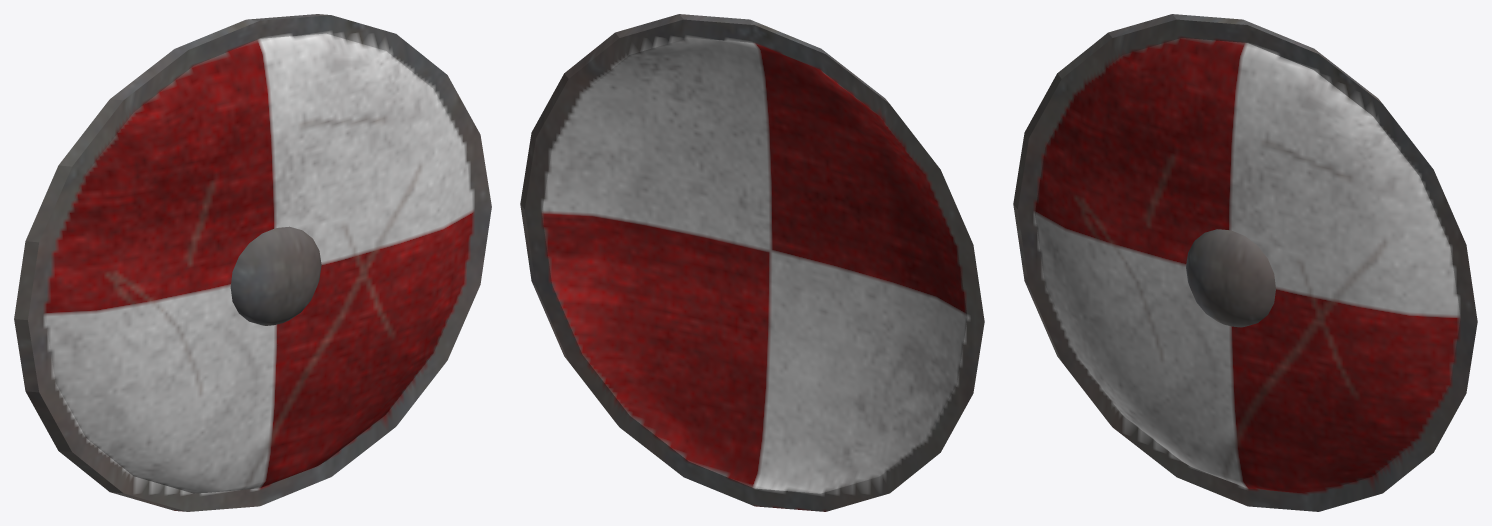
File: Shield red.fbx
3 renders of one model, left to right at view 1: azimuth 30°, elevation 25°; view 2: azimuth 150°, elevation 25°; view 3: azimuth 330°, elevation 25°, orthographic.
Parts seen in each view (by area): view 1: Shield; view 2: Shield; view 3: Shield.
Part boxes in pixels (left/top/right/bottom): Shield: left=14, top=14, right=491, bottom=511; Shield: left=520, top=14, right=984, bottom=511; Shield: left=1013, top=14, right=1477, bottom=511.
Size of the model in its own units: 1.21 by 1.18 by 0.1366.
